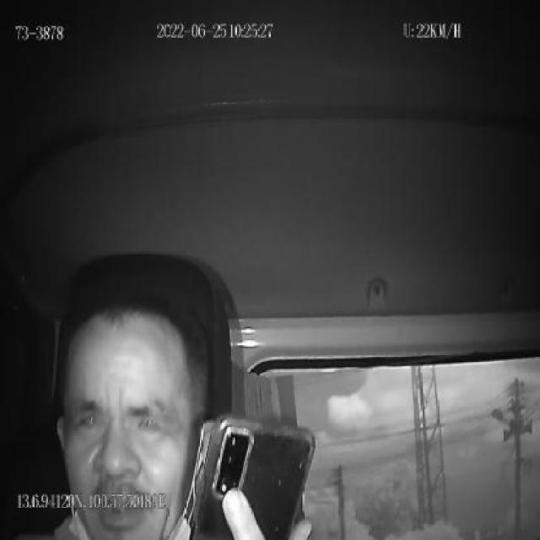phone: (191, 412, 316, 540)
